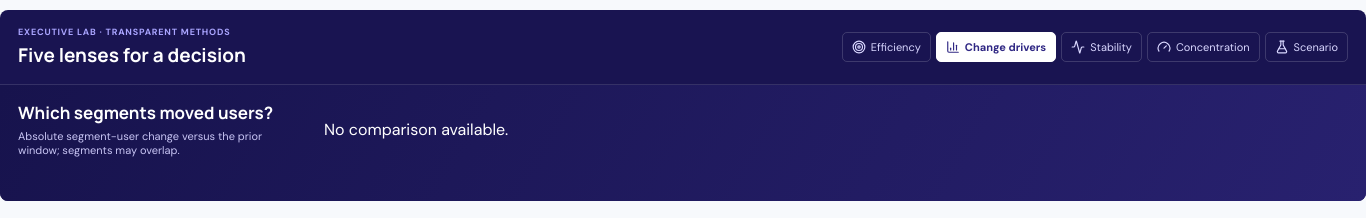
Test: Bilingual lens presentation › uses membership shares in the executive concentration lens
This screenshot has width=1366, height=218.
Click the tab "Concentration": (1203, 47) [1147,32,1260,62]
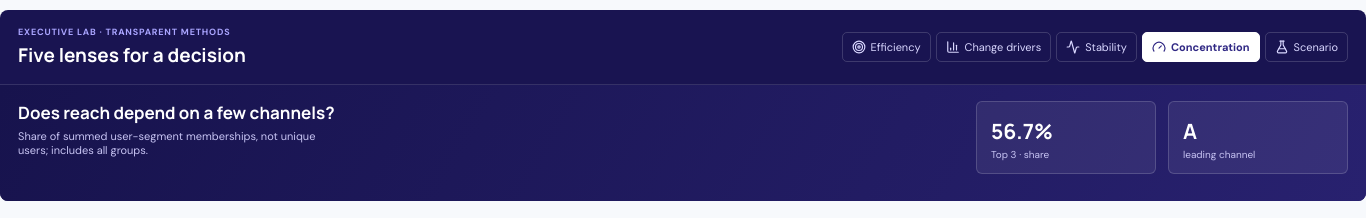
Now the text "Top 3 · share" is shown, box [991,148,1049,161]
Now the text "not unique users" is shown, box [18,129,315,157]
